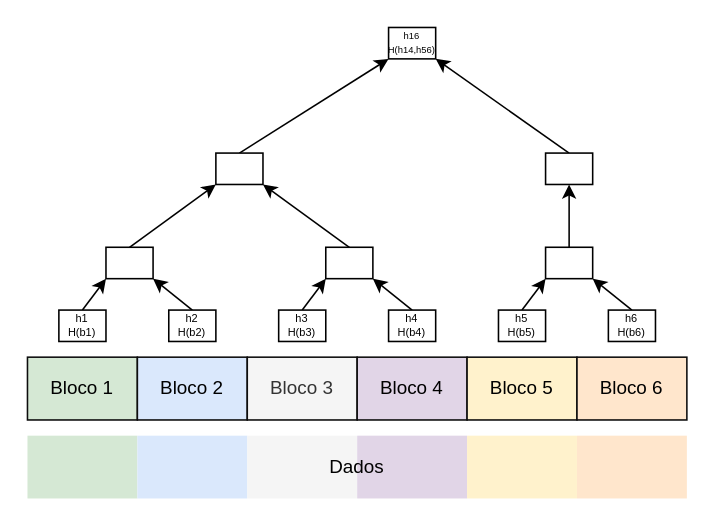
This 714x526 diagram has some shape labels left out. The centre of each missing label's shape, as x and y in pixels:
h12 H(h1,h2): point 128,262
h14 H(h12,h34): point 238,168
h34 H(h3,h4): point 348,262
h56: point 568,168
h56 H(h5,h6): point 568,262
